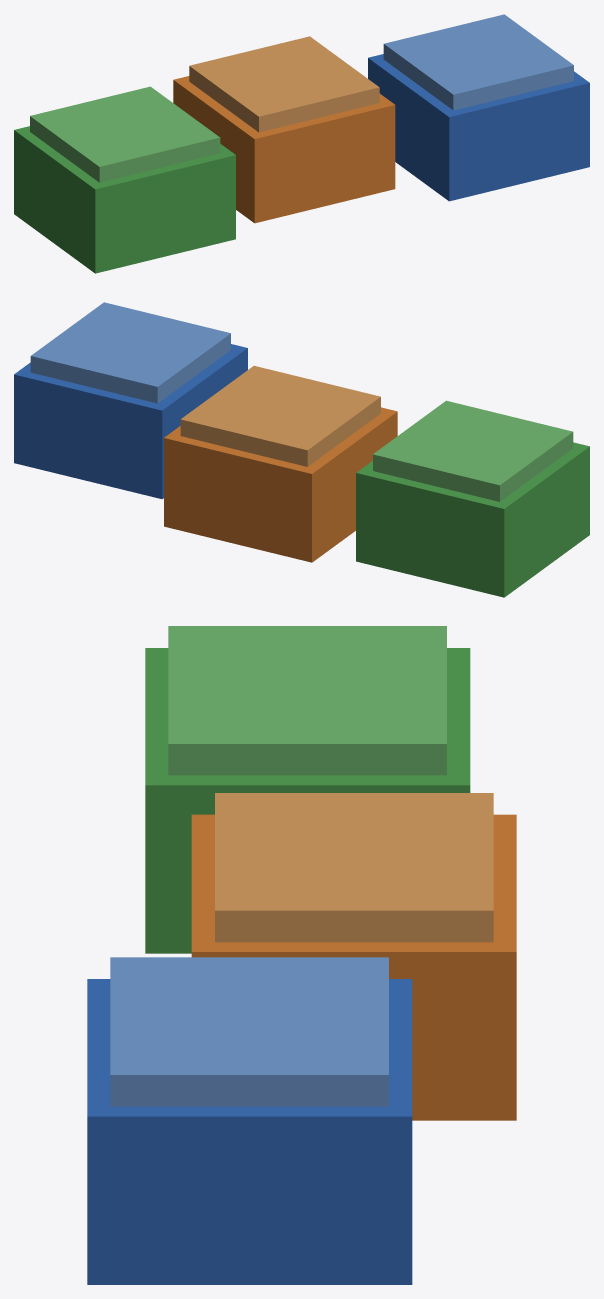
Rendered from tv-poufs.glb.
The picture shows the model from 3 angles, top to bottom: view 1: azimuth 30°, elevation 25°; view 2: azimuth 150°, elevation 25°; view 3: azimuth 270°, elevation 25°; orthographic projection. The views are drawn at different scales.
Parts seen in each view (by area): view 1: box-prop; view 2: box-prop; view 3: box-prop.
Boxes of the visible parts, bbox=[...] form: box-prop: bbox=[14, 14, 589, 273]; box-prop: bbox=[14, 302, 589, 597]; box-prop: bbox=[87, 626, 516, 1284].
Size of the model in its own units: 1.91 by 0.38 by 0.74.
